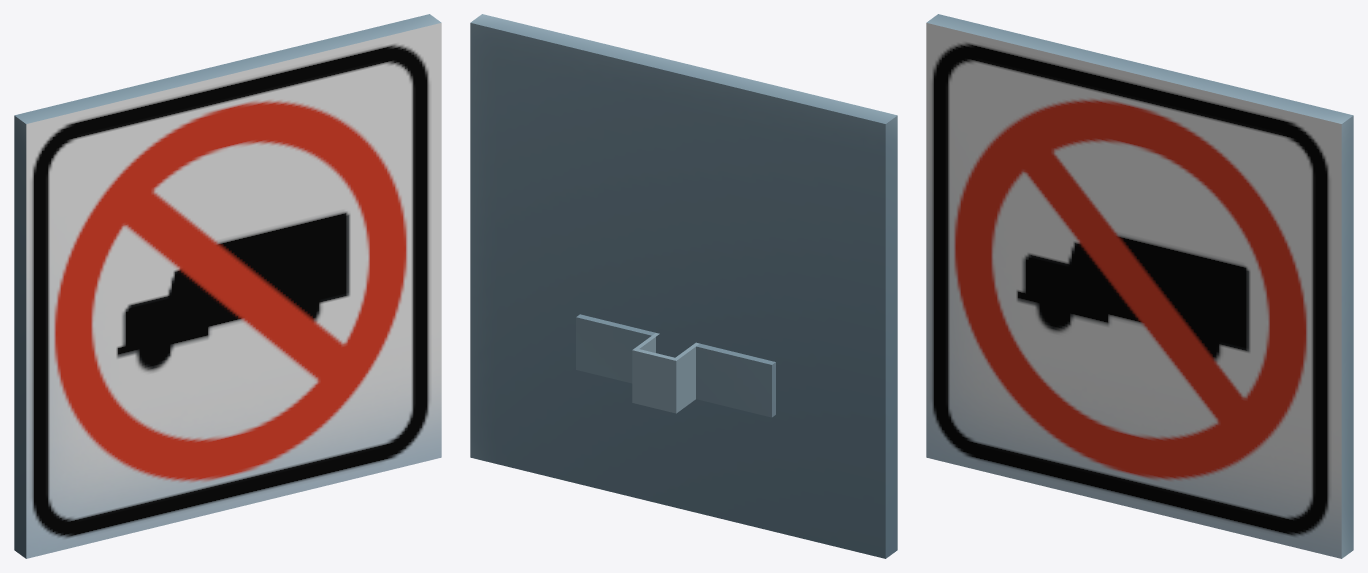
File: Sign13.fbx
3 renders of one model, left to right at view 1: azimuth 30°, elevation 25°; view 2: azimuth 150°, elevation 25°; view 3: azimuth 330°, elevation 25°, orthographic.
Parts seen in each view (by area): view 1: Sign13; view 2: Sign13; view 3: Sign13.
Part boxes in pixels (x1,y1,x2,y2): Sign13: (14,14,441,558); Sign13: (470,14,897,558); Sign13: (926,14,1353,558).
Bounding box in the file's own units: 1 × 0.1489 × 1.
